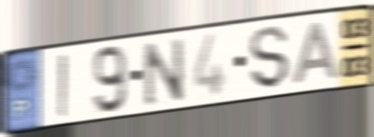4: (192, 29, 231, 101)
9: (91, 44, 130, 115)
A: (290, 19, 341, 88)
I: (56, 51, 71, 120)
N: (141, 35, 187, 109)
S: (247, 25, 292, 92)
